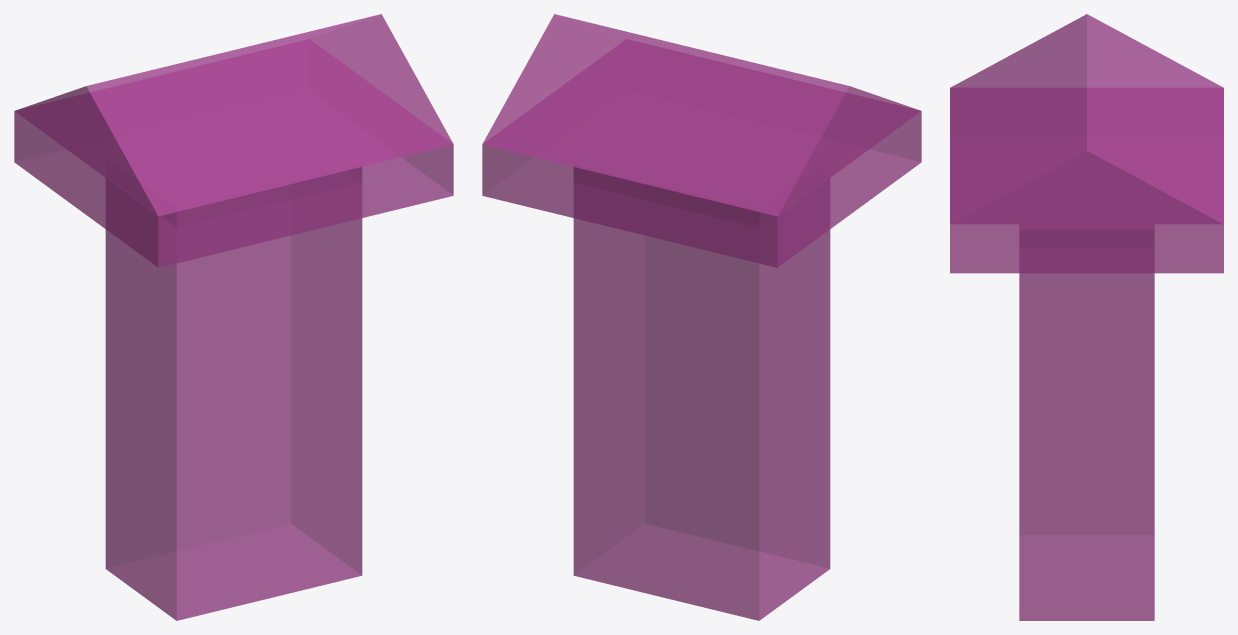
The model's file is SM_Bld_Fence_Dobei_Pillar_02_Collision_01.fbx.
3 views of the same model, side by side, from view 1: azimuth 30°, elevation 25°; view 2: azimuth 150°, elevation 25°; view 3: azimuth 270°, elevation 25° (orthographic). The views are drawn at different scales.
Parts seen in each view (by area): view 1: SM_Bld_Fence_Dobei_Pillar_02_Collision_01; view 2: SM_Bld_Fence_Dobei_Pillar_02_Collision_01; view 3: SM_Bld_Fence_Dobei_Pillar_02_Collision_01.
Part boxes in pixels (<box>): SM_Bld_Fence_Dobei_Pillar_02_Collision_01: <box>14,14,453,620</box>; SM_Bld_Fence_Dobei_Pillar_02_Collision_01: <box>482,14,921,620</box>; SM_Bld_Fence_Dobei_Pillar_02_Collision_01: <box>950,14,1223,620</box>.
Size of the model in its own units: 234 by 396 by 198.
